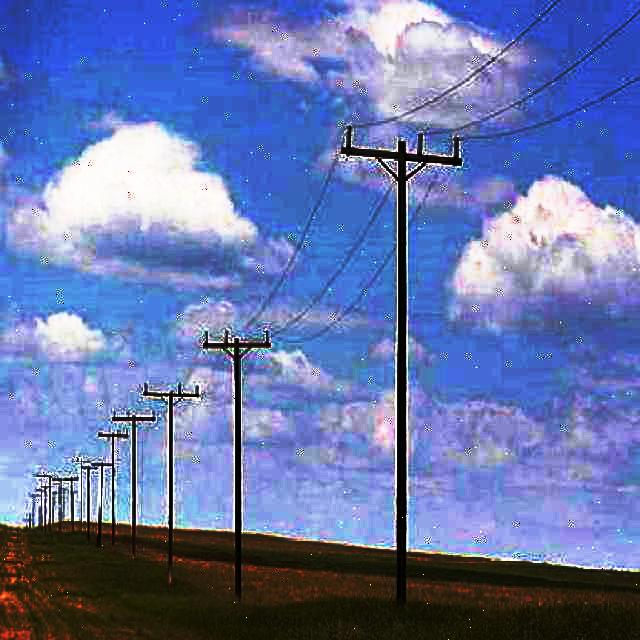poles: (341, 126, 461, 604), (202, 331, 270, 602), (146, 385, 198, 582), (100, 432, 128, 547)
wires: (379, 3, 551, 128), (465, 10, 639, 129), (241, 137, 341, 324), (274, 181, 396, 331), (272, 241, 396, 359), (469, 72, 638, 151), (407, 168, 448, 221)
